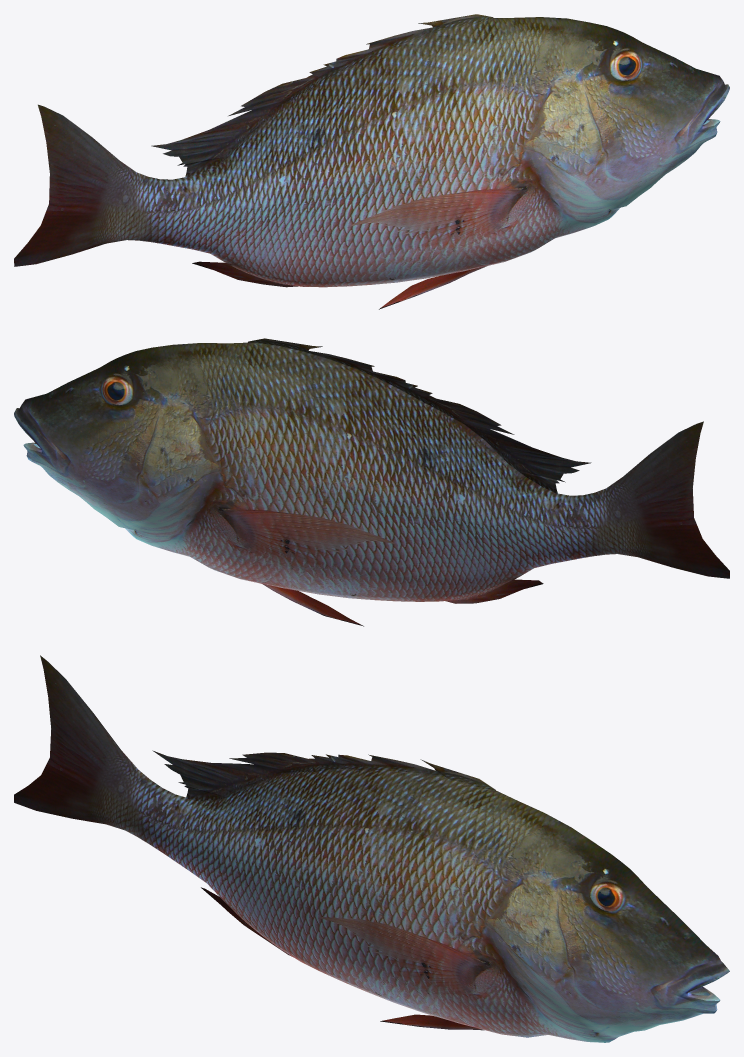
File: fish.glb
The picture shows the model from 3 angles, top to bottom: view 1: azimuth 30°, elevation 25°; view 2: azimuth 150°, elevation 25°; view 3: azimuth 330°, elevation 25°; orthographic projection.
Visible parts, largest first — view 1: Line01; view 2: Line01; view 3: Line01.
Part boxes in pixels (box(x1,y1,x2,y2)): Line01: box(14, 14, 729, 309); Line01: box(14, 338, 729, 626); Line01: box(14, 655, 729, 1042).
Bounding box in the file's own units: 12.03 × 4.63 × 1.24.
1 material, 1 textured.
